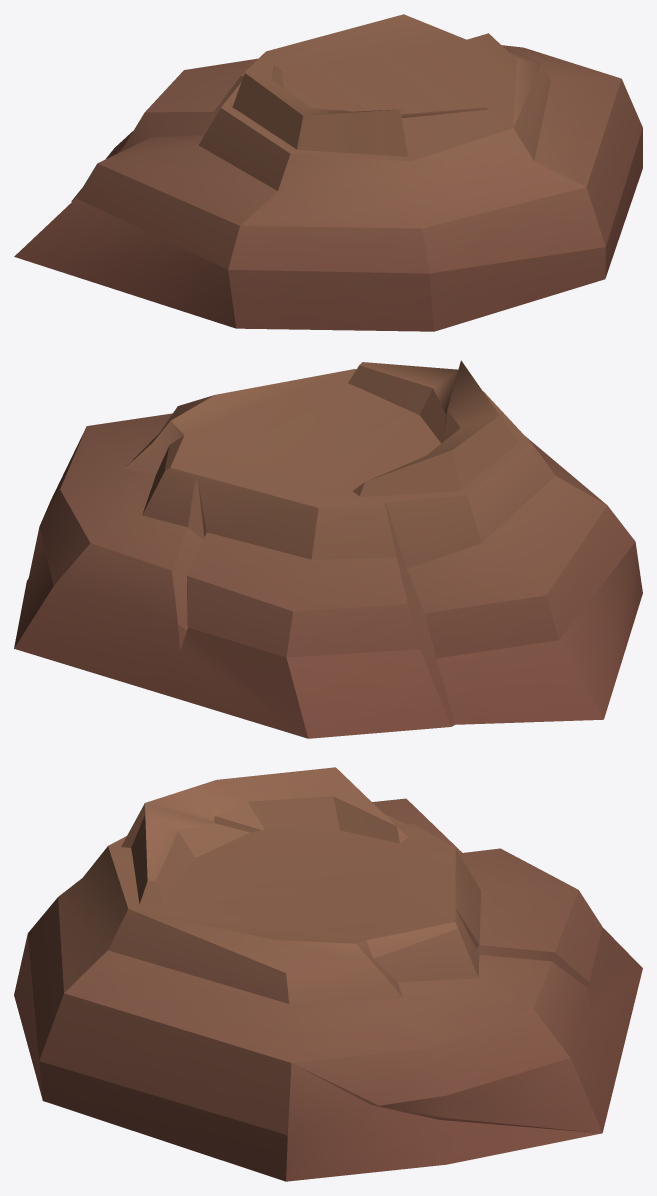
Rendered from rocher_jizo.FBX.
3 renders of one model, top to bottom at view 1: azimuth 30°, elevation 25°; view 2: azimuth 150°, elevation 25°; view 3: azimuth 270°, elevation 25°, orthographic. The views are drawn at different scales.
Visible parts, largest first — view 1: rocher_jizo; view 2: rocher_jizo; view 3: rocher_jizo.
Part boxes in pixels (<box>): rocher_jizo: <box>14,14,642,331</box>; rocher_jizo: <box>14,360,642,738</box>; rocher_jizo: <box>14,767,642,1181</box>.
Bounding box in the file's own units: 12.33 × 3.7 × 10.23.
